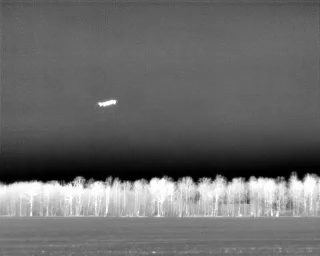DRONE: (95, 94, 120, 111)
